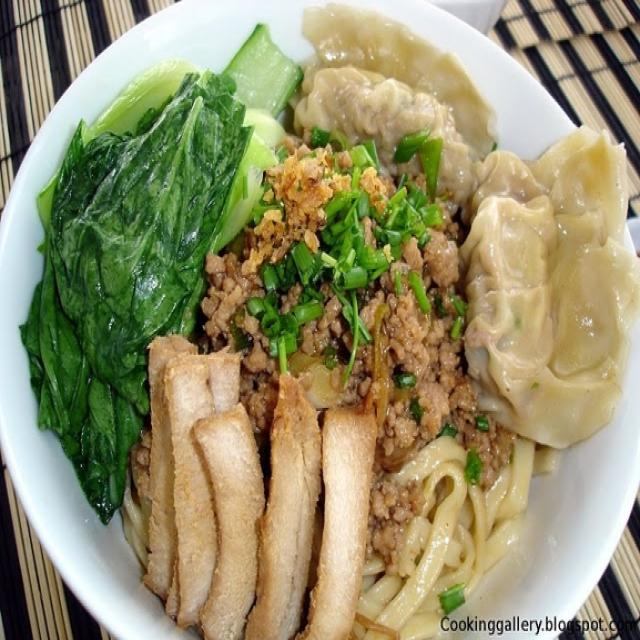面条主食: (30, 31, 616, 621)
